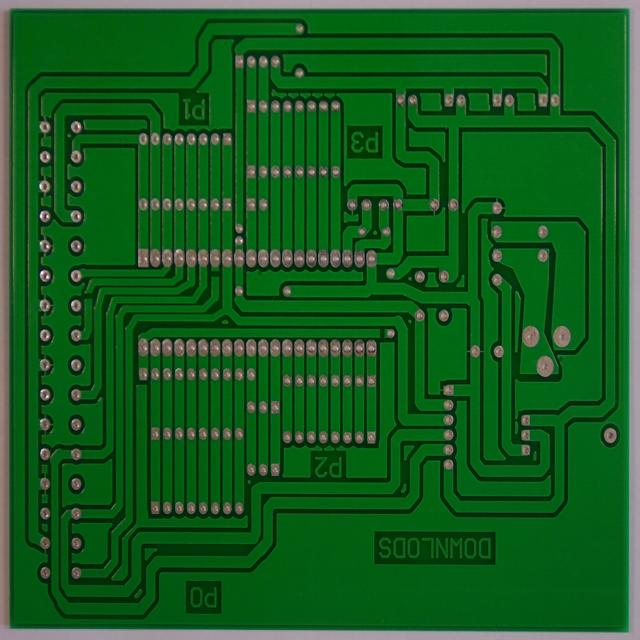open_circuit: (80, 288, 96, 303), (375, 325, 388, 340), (209, 267, 220, 279)
